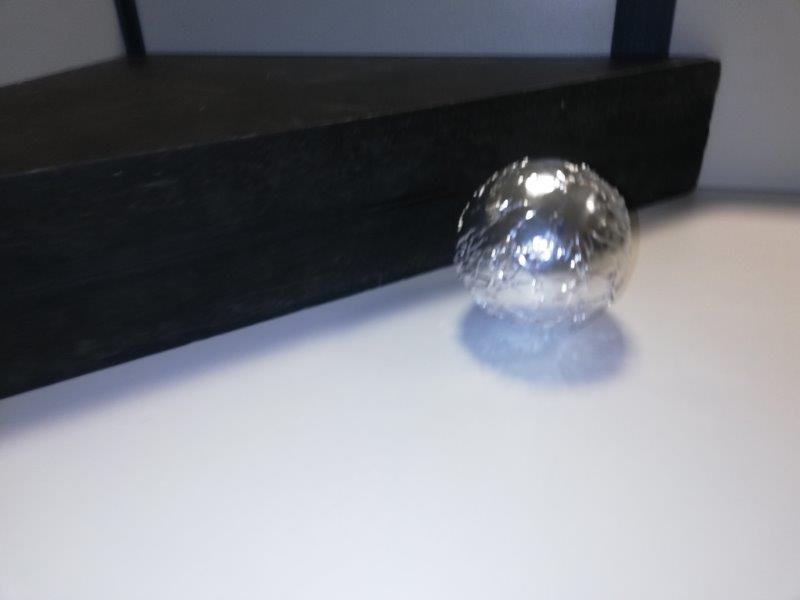bianca: (456, 153, 637, 330)
